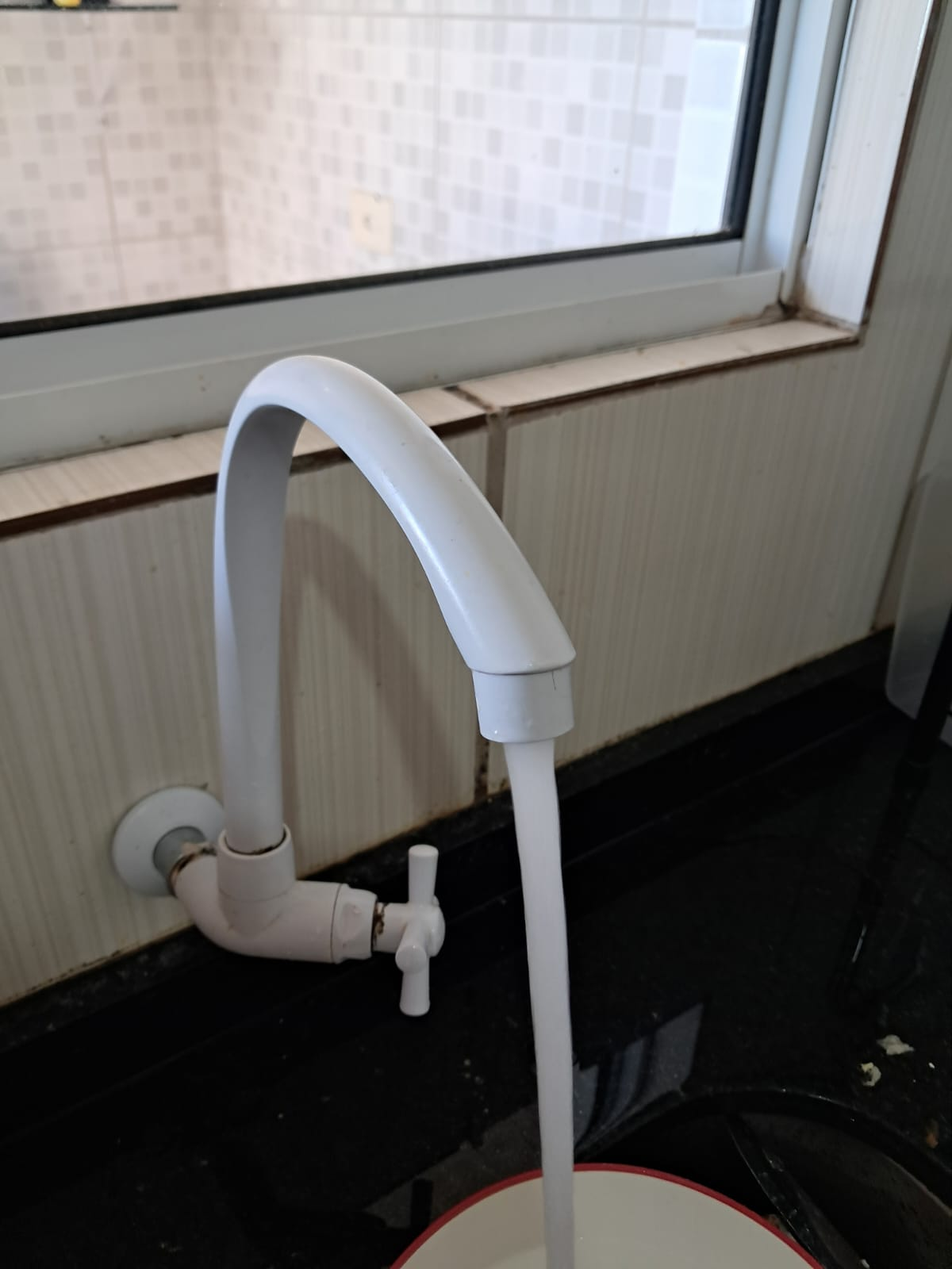torneira_aberta: (78, 331, 604, 1054)
